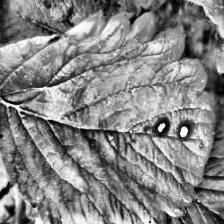Leaf Spot: (0, 9, 218, 224), (165, 120, 224, 224), (26, 0, 161, 27)
